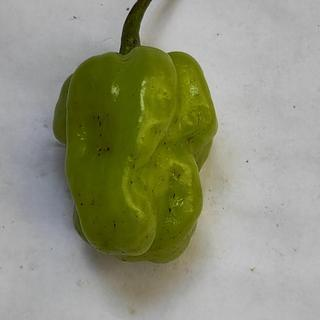Fly-bites: (127, 177, 138, 191), (77, 198, 86, 208), (167, 205, 174, 215), (171, 191, 178, 200), (97, 120, 104, 127), (112, 221, 118, 229), (106, 145, 112, 152), (98, 147, 102, 152), (162, 141, 167, 145), (98, 153, 102, 157)
